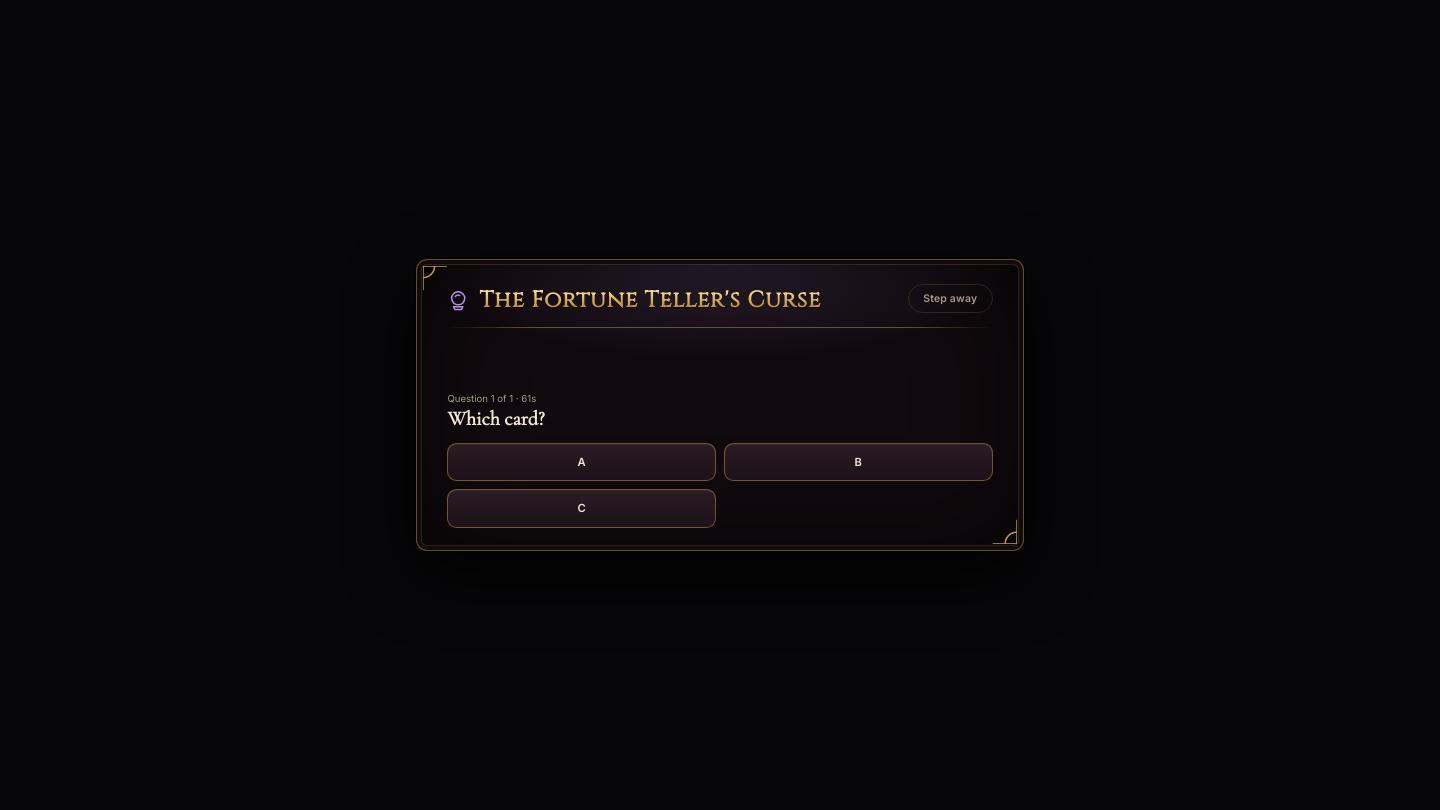
player screens › fortune: answers a multiple-choice question
What coordinates should you click on to do the following:
click the button "B"
I would click on:
 (858, 462)
Its box is [724,443,993,481].
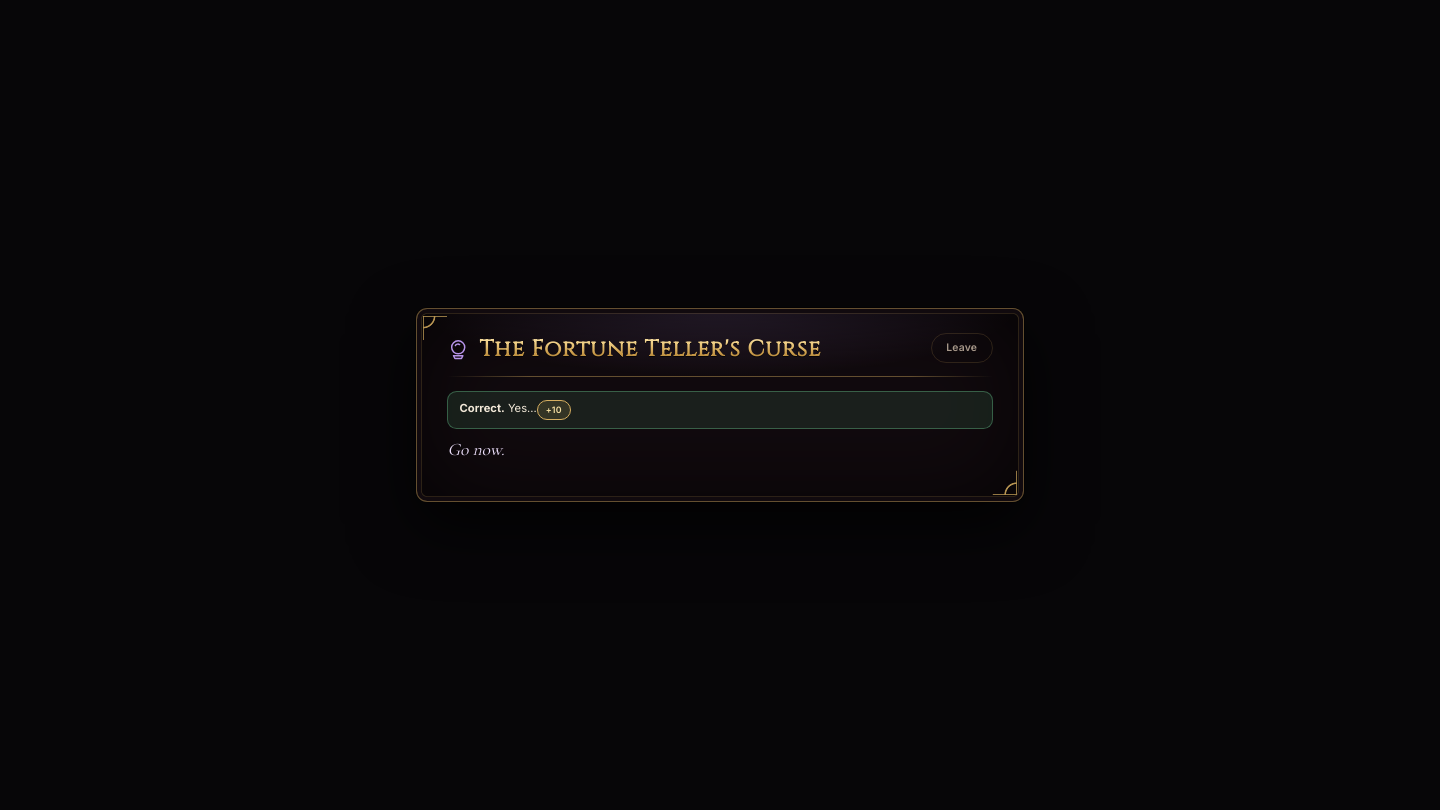
Expected: the text "Correct." is shown, [460,402,505,416]
